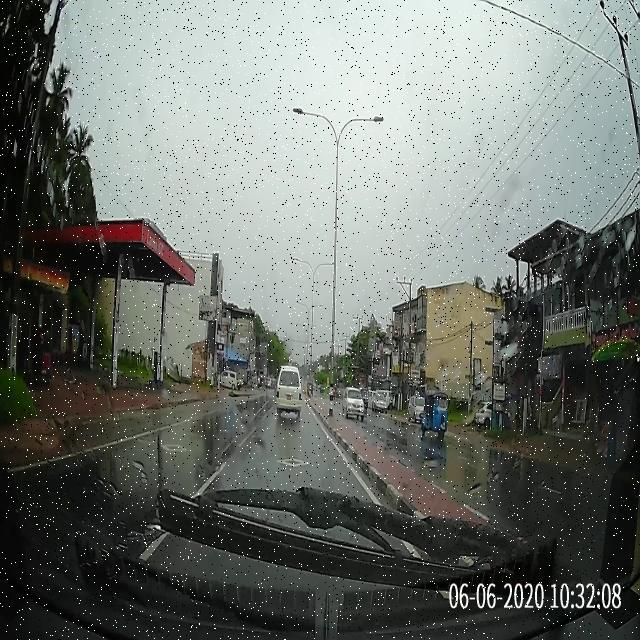diamond: (221, 451, 358, 473)
